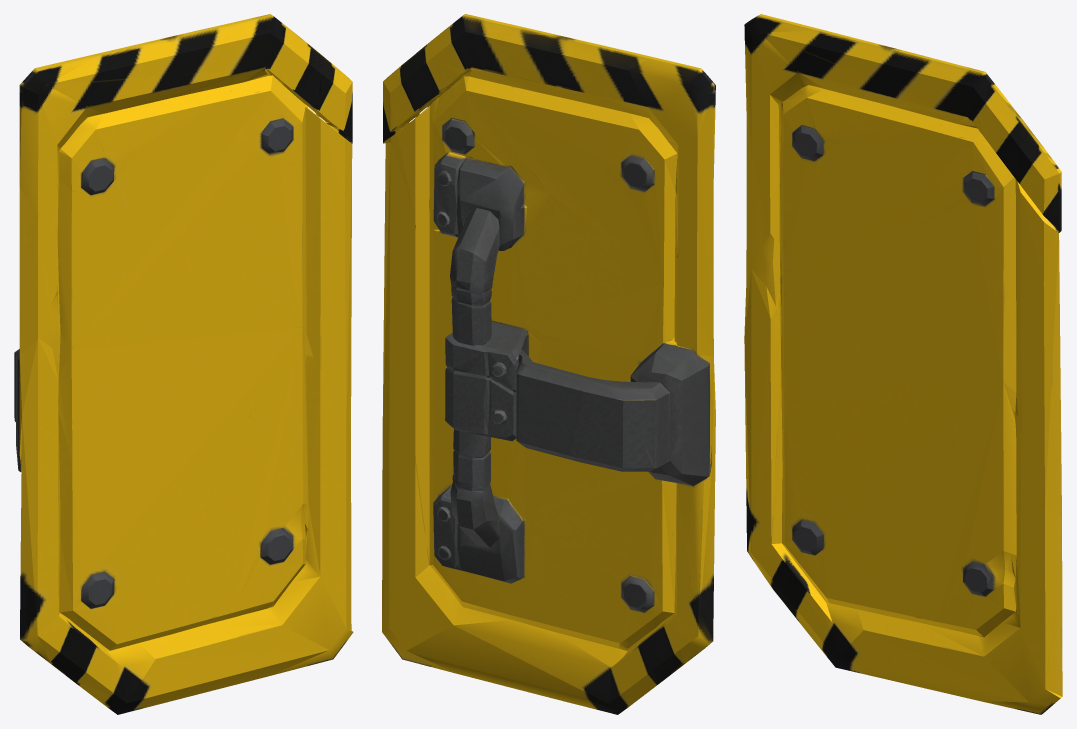
The model's file is Meshy_AI_Hazard_Panel_1017060515_texture.fbx.
The picture shows the model from 3 angles, left to right: view 1: azimuth 30°, elevation 25°; view 2: azimuth 150°, elevation 25°; view 3: azimuth 330°, elevation 25°; orthographic projection. The views are drawn at different scales.
Parts seen in each view (by area): view 1: output_unwrapped; view 2: output_unwrapped; view 3: output_unwrapped.
Part boxes in pixels (box(x1,y1,x2,y2)): output_unwrapped: box(14, 14, 353, 714); output_unwrapped: box(382, 14, 715, 714); output_unwrapped: box(744, 14, 1062, 714).
Bounding box in the file's own units: 99.17 × 190 × 25.9.
1 material, 1 textured.
